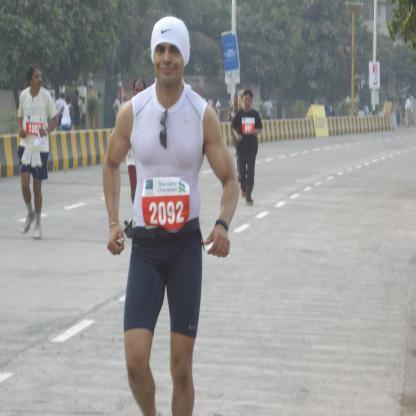face: (153, 35, 185, 83), (33, 70, 42, 90), (135, 81, 145, 94), (245, 96, 252, 109)
